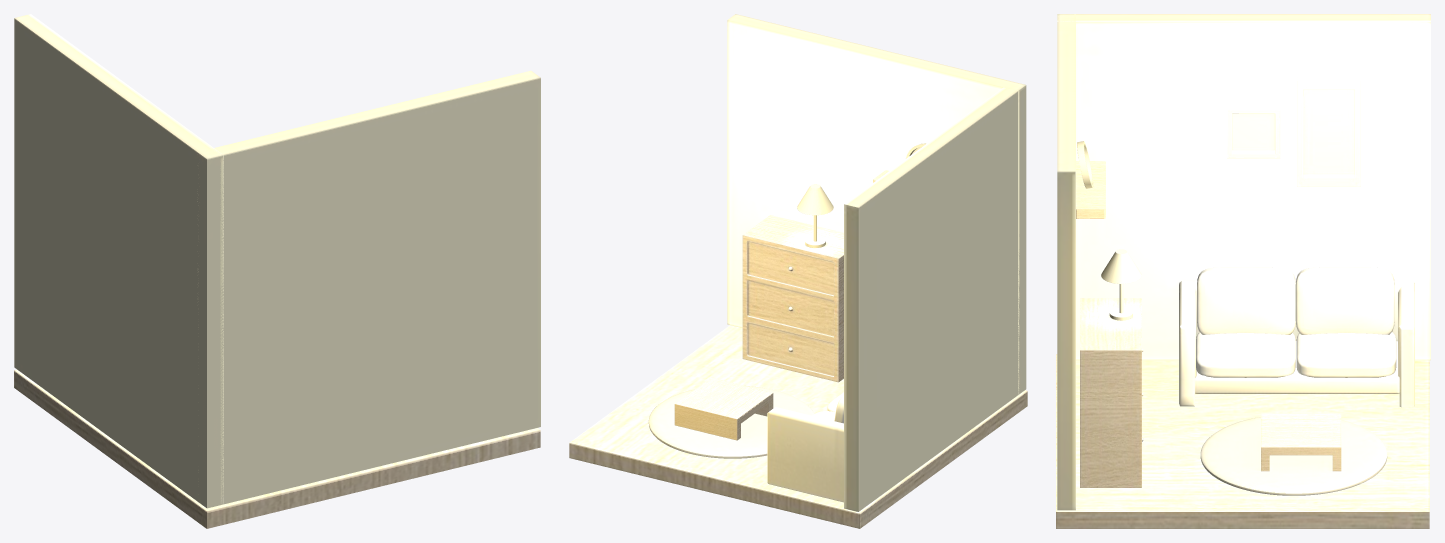
File: room_basic.gltf
3 renders of one model, left to right at view 1: azimuth 30°, elevation 25°; view 2: azimuth 150°, elevation 25°; view 3: azimuth 270°, elevation 25°, orthographic. The views are drawn at different scales.
Visible parts, largest first — view 1: 1, 2-2; view 2: 1, 2-2, 6, 15, 8, 7, 10; view 3: 1, 2-2, 6, 8, 15, 3, 13, 11, 14, 12, 7, 4 (+3 smaller).
Part boxes in pixels (x1,y1,x2,y2): 1: (14,14,540,508); 2-2: (14,369,540,528); 1: (727,14,1026,511); 2-2: (569,325,1027,528); 6: (742,215,843,382); 15: (767,407,843,502); 8: (648,385,814,458); 7: (674,377,773,440); 10: (797,184,833,247); 1: (1057,14,1430,510); 2-2: (1056,354,1429,528); 6: (1080,298,1143,487); 8: (1200,417,1387,495); 15: (1179,281,1414,407); 3: (1297,77,1360,186); 13: (1295,267,1394,334); 11: (1197,267,1295,334); 14: (1296,332,1396,377); 12: (1196,332,1295,377); 7: (1261,413,1341,471); 4: (1227,106,1280,158).
Size of the model in its own units: 1011 by 1066 by 1013.
Materials: 15 (4 with a texture image).
